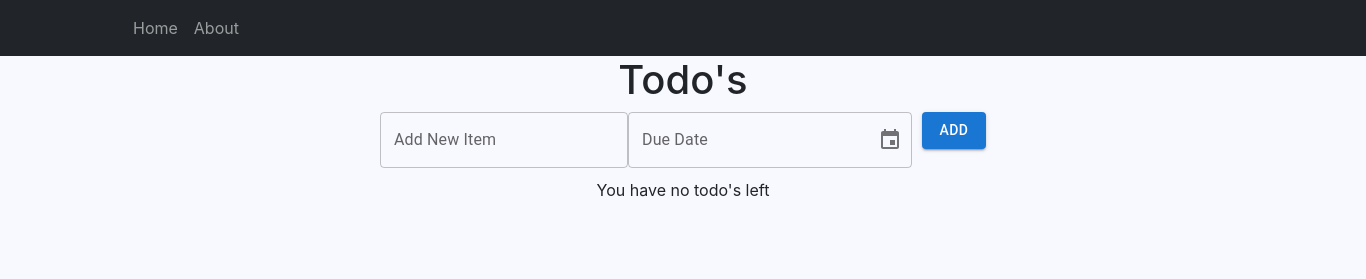
Test: test that App component renders different colors for past due events
This screenshot has width=1366, height=279.
Type "Homework" into the field labelled "Add New Item" at {"x": 504, "y": 140}, box [380, 112, 628, 168]
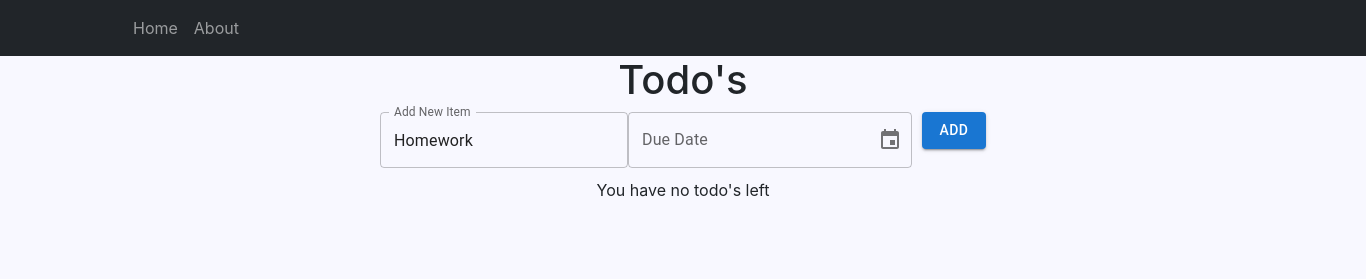
Type "06/26/2021" into the field with placeholder "mm/dd/yyyy" at {"x": 745, "y": 140}, box [628, 112, 862, 168]
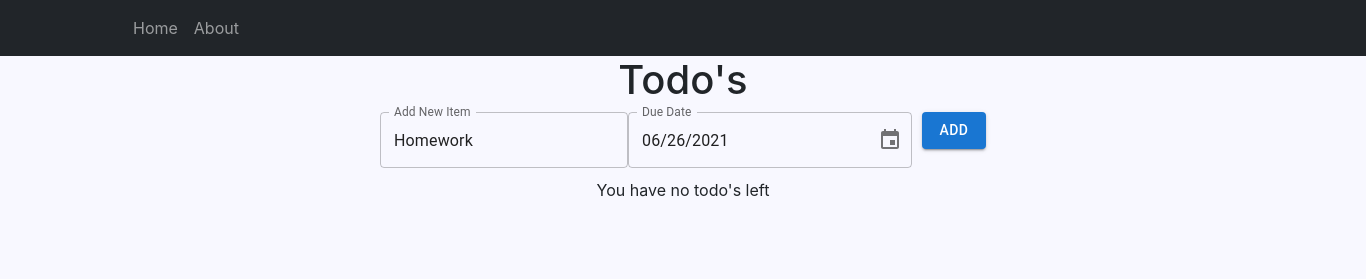
Click the button "Add" at {"x": 954, "y": 130}, box [922, 112, 986, 148]
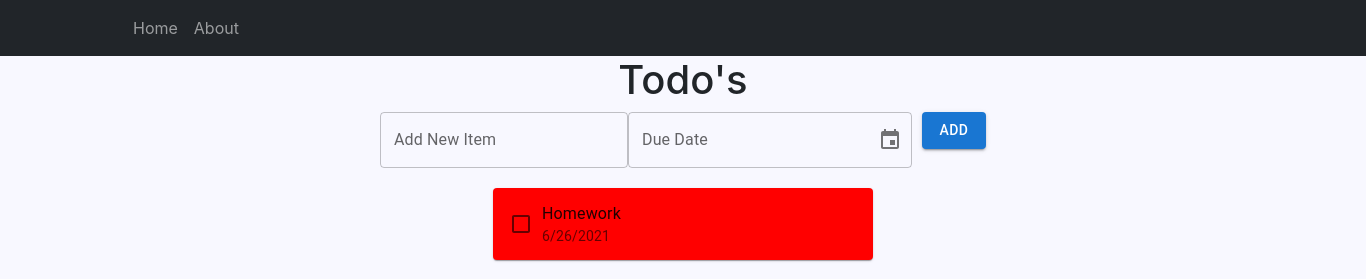
Result: the text "Homework" is shown at [542, 204, 621, 223]
